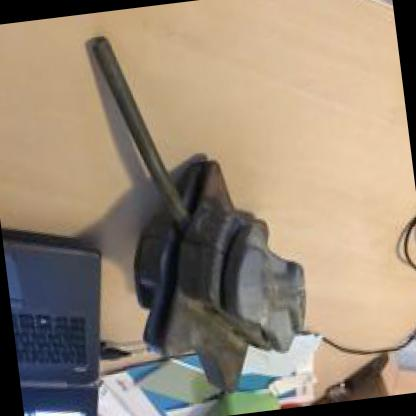Twistlock: (76, 6, 325, 414)
